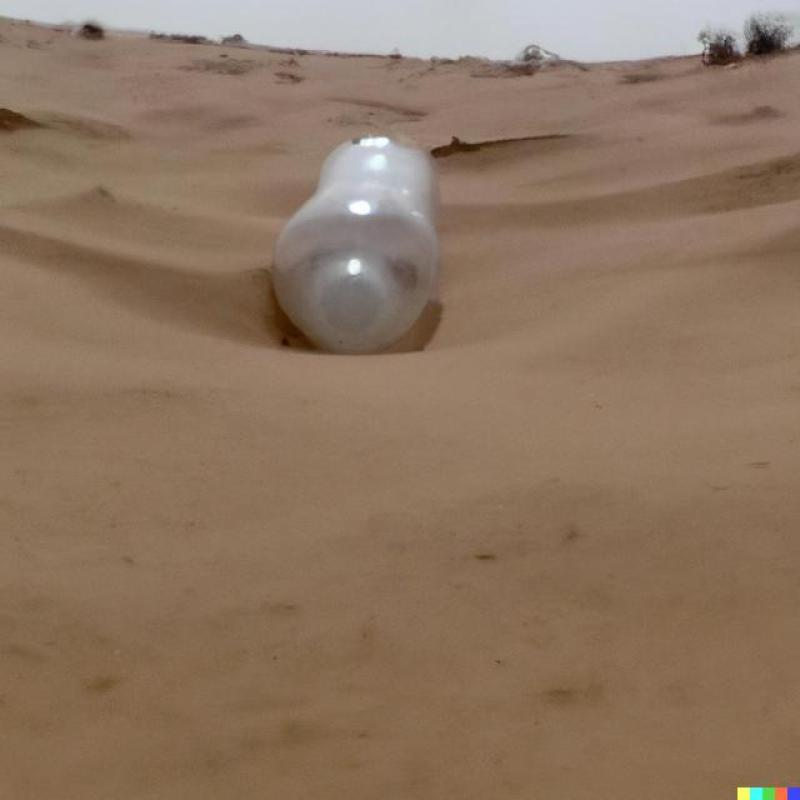botella: (271, 130, 440, 349)
